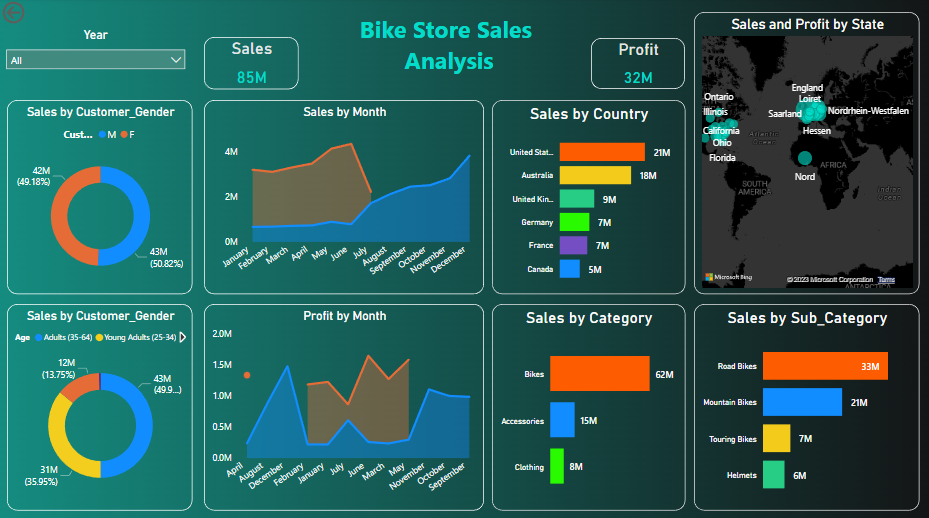

Layout of this report page (visuals, bound fields, positions):
{"tool":"powerbi","page":{"name":"Page 1","canvas":[1280,720],"ordinal":0},"visuals":[{"type":"barChart","title":"Sales by Category","fields":{"Category":["Sales.Product_Category"],"Y":["Sum(Sales.Revenue)"]},"box":[596.7,420.7,321.7,283.2],"z":0},{"type":"barChart","title":"Sales by Sub_Category","fields":{"Y":["Sum(Sales.Revenue)"],"Category":["Sales.Sub_Category"]},"box":[929.4,420.7,339.6,283.2],"z":1000},{"type":"barChart","title":"Sales by Country","fields":{"Y":["Sum(Sales.Revenue)"],"Category":["Sales.Country"]},"box":[277.7,420.7,309.3,283.2],"z":2000},{"type":"stackedAreaChart","title":"Sales by Month","fields":{"Category":["Sales.Date.Variation.Date Hierarchy.Month"],"Y":["Sum(Sales.Revenue)"],"Series":["Sales.Date.Variation.Date Hierarchy.Year"]},"box":[281.8,140.2,475.7,266.7],"z":3000},{"type":"stackedAreaChart","title":"Profit by Month","fields":{"Y":["Sum(Sales.Profit)"],"Category":["Sales.Month"],"Series":["Sales.Date.Variation.Date Hierarchy.Year"]},"box":[769.9,140.2,493.6,266.7],"z":4000},{"type":"actionButton","box":[0,0,100,40],"z":6000},{"type":"donutChart","title":"Sales by Customer_Gender","fields":{"Y":["Sum(Sales.Revenue)"],"Category":["Sales.Customer_Gender"]},"box":[10.4,140.3,255.2,267.2],"z":7000},{"type":"donutChart","title":"Sales by Customer_Gender","fields":{"Y":["Sum(Sales.Revenue)"],"Category":["Sales.Age_Group"]},"box":[10.4,420.9,255.2,283.6],"z":8000},{"type":"slicer","title":"Year","fields":{"Values":["Sales.Year"]},"box":[0,40.3,265.7,83.6],"z":9000},{"type":"textbox","box":[424.8,15.1,332.7,110],"z":10000},{"type":"card","title":"Sales","fields":{"Values":["Sum(Sales.Revenue)"]},"box":[282.1,53.7,129.9,71.6],"z":11000},{"type":"card","title":"Profit","fields":{"Values":["Sum(Sales.Profit)"]},"box":[769.9,53.6,129.2,70.1],"z":12000},{"type":"card","title":"Male","fields":{"Values":["Sales.sum of gender"]},"box":[940.4,15.1,148.5,107.2],"z":12001},{"type":"card","title":"Female Customer","fields":{"Values":["Sales.sum of gender"]},"box":[1115,16.5,148.5,108.6],"z":12002}]}

Visuals, with their boxes in screenshot pixels (x1, y1, x2, y2), scaled from the page's 1280x720 canvas onto the 929x518 screenshot:
"Sales by Category" barChart: x1=433 y1=303 x2=667 y2=506
"Sales by Sub_Category" barChart: x1=675 y1=303 x2=921 y2=506
"Sales by Country" barChart: x1=202 y1=303 x2=426 y2=506
"Sales by Month" stackedAreaChart: x1=205 y1=101 x2=550 y2=293
"Profit by Month" stackedAreaChart: x1=559 y1=101 x2=917 y2=293
actionButton: x1=0 y1=0 x2=73 y2=29
"Sales by Customer_Gender" donutChart: x1=8 y1=101 x2=193 y2=293
"Sales by Customer_Gender" donutChart: x1=8 y1=303 x2=193 y2=507
"Year" slicer: x1=0 y1=29 x2=193 y2=89
textbox: x1=308 y1=11 x2=550 y2=90
"Sales" card: x1=205 y1=39 x2=299 y2=90
"Profit" card: x1=559 y1=39 x2=653 y2=89
"Male" card: x1=683 y1=11 x2=790 y2=88
"Female Customer" card: x1=809 y1=12 x2=917 y2=90
